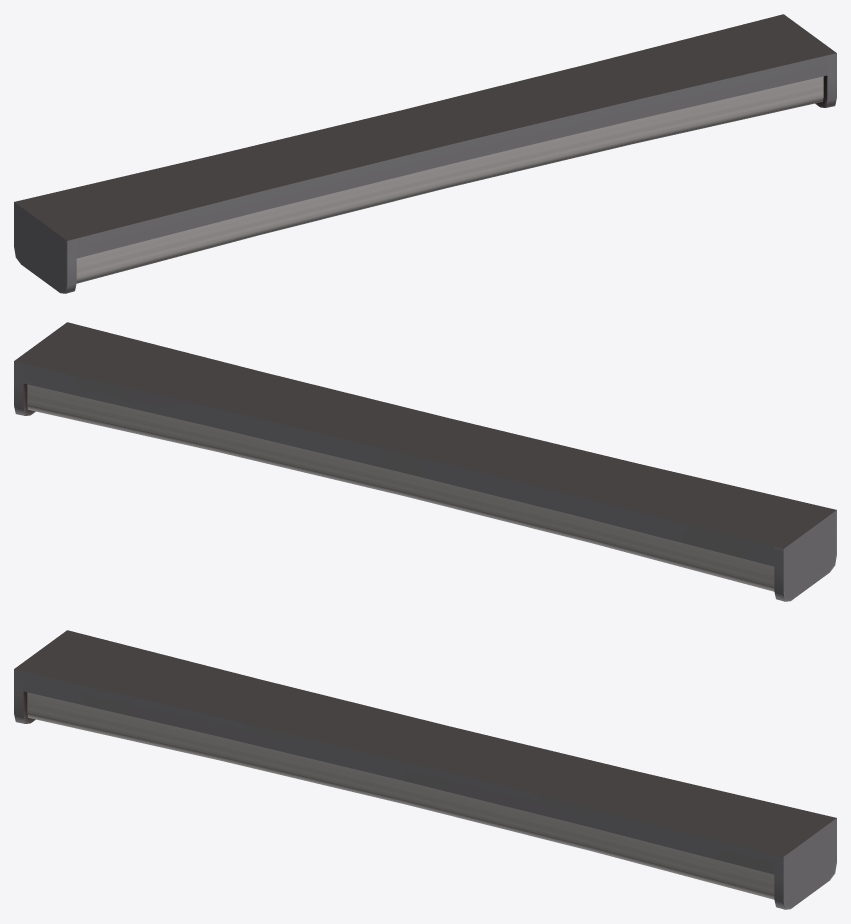
Rendered from OfficeCeilingLight02_2.FBX.
The picture shows the model from 3 angles, top to bottom: view 1: azimuth 30°, elevation 25°; view 2: azimuth 150°, elevation 25°; view 3: azimuth 330°, elevation 25°; orthographic projection.
Parts seen in each view (by area): view 1: OfficeCeilingLight02_2; view 2: OfficeCeilingLight02_2; view 3: OfficeCeilingLight02_2.
Boxes of the visible parts, left/top/right/bottom form: OfficeCeilingLight02_2: left=14, top=14, right=836, bottom=293; OfficeCeilingLight02_2: left=14, top=322, right=836, bottom=601; OfficeCeilingLight02_2: left=14, top=630, right=836, bottom=909.
Size of what is drawn, in the model's own units: 1.25 by 0.0891 by 0.15.
